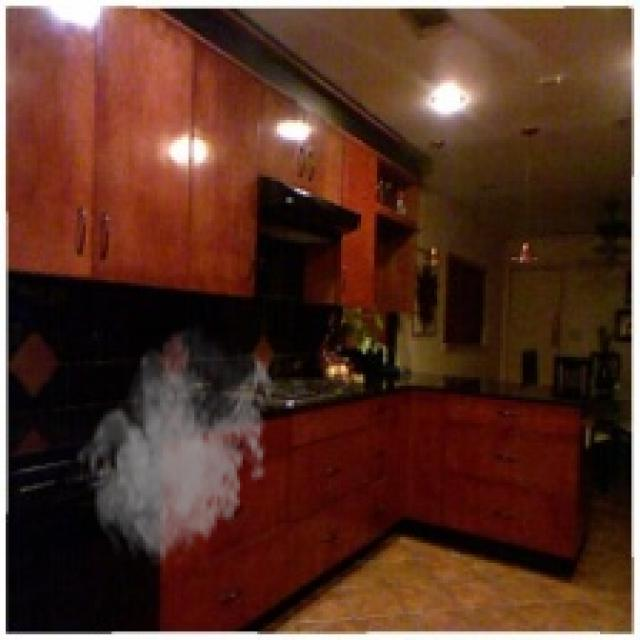smoke: (74, 323, 277, 568)
